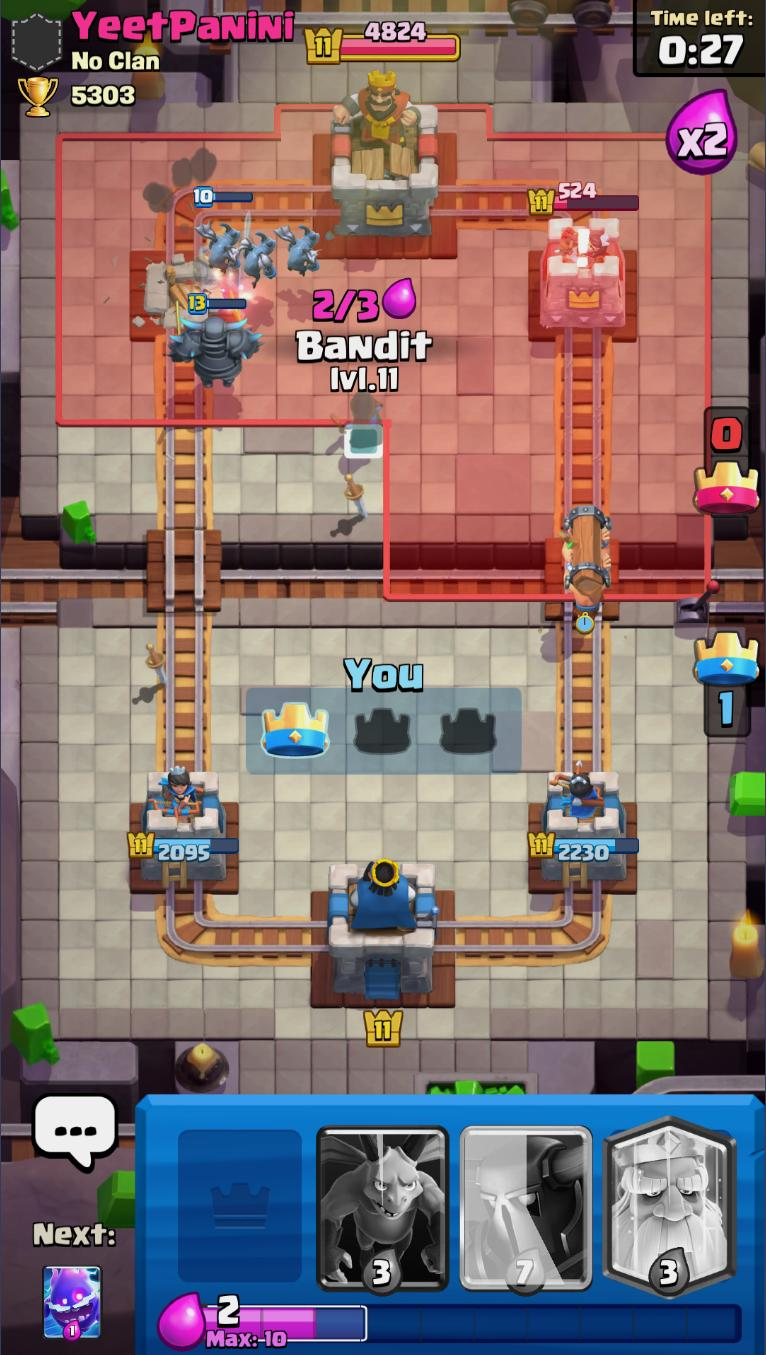ElectroSpiritNext: (41, 1264, 103, 1343)
Elixir: (203, 1295, 744, 1350)
Empty: (167, 1095, 310, 1296)
EnemyTower: (533, 214, 631, 331)
EnemyTowerBrocken: (125, 252, 236, 350)
KingTower: (326, 80, 443, 243)
MinionsDeck: (311, 1095, 455, 1296)
MyBattleRam: (557, 504, 610, 629)
MyKingTower: (326, 858, 440, 1000)
MyMinion: (273, 223, 322, 277), (232, 230, 278, 287), (195, 220, 242, 275)
MyPekka: (169, 296, 263, 392)
MyPrincessTower: (126, 768, 240, 886), (528, 770, 640, 886)
MyPrincessTowerHP: (126, 830, 239, 862), (527, 832, 640, 862)
MyRoyaleGhost: (192, 187, 251, 292)
PekkaDeck: (456, 1094, 598, 1295)
PrincessTower: (552, 213, 607, 267)
RoyaleGhostDeck: (598, 1094, 742, 1296)
TowerPrincessHP: (527, 182, 640, 216)
